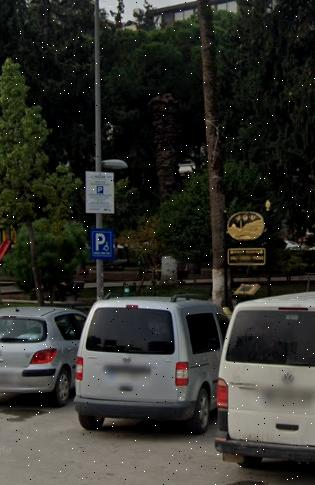disabledpark: (92, 230, 111, 256)
